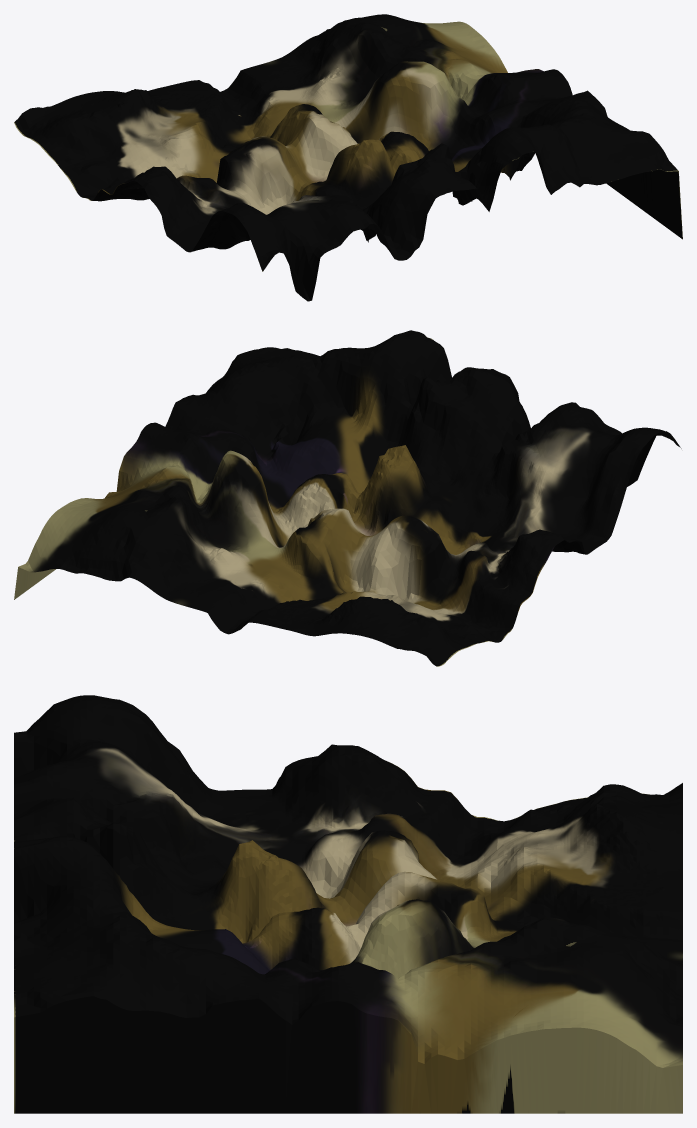
3 views of the same model, one above another, from view 1: azimuth 30°, elevation 25°; view 2: azimuth 150°, elevation 25°; view 3: azimuth 270°, elevation 25° (orthographic). The views are drawn at different scales.
Parts seen in each view (by area): view 1: copysT15; view 2: copysT15; view 3: copysT15.
Boxes of the visible parts, x1,y1,x2,y2 form: copysT15: (14,14,682,301); copysT15: (14,330,681,666); copysT15: (14,695,682,1113).
Size of the model in its own units: 31667 by 9442 by 32440.
